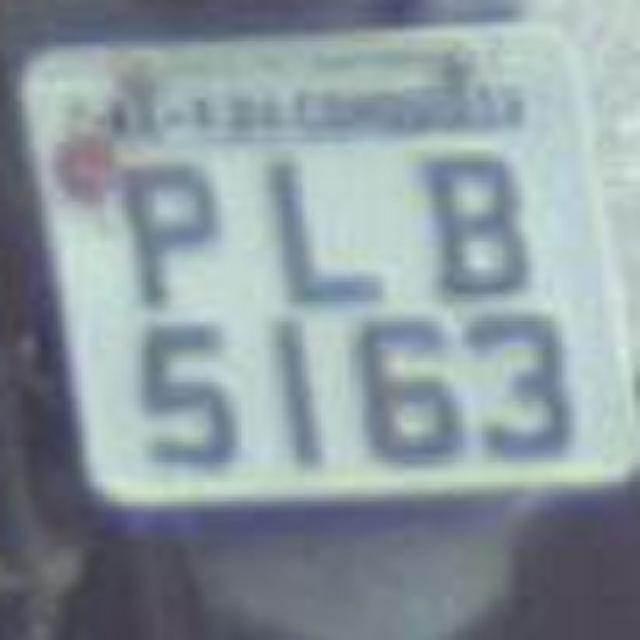1: (240, 309, 348, 476)
3: (432, 304, 600, 484)
5: (108, 292, 252, 476)
6: (328, 296, 480, 492)
B: (408, 144, 544, 316)
J: (256, 145, 389, 320)
P: (112, 136, 232, 316)
